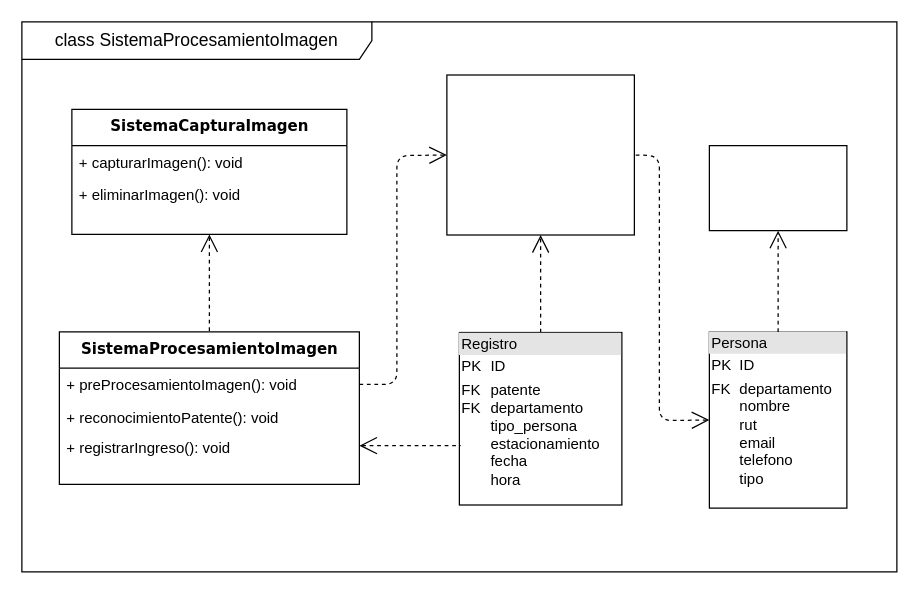
Image size: 919x594. Some labels were removed from this diagram. The centre of each missing label's shape, as x and y in pixels:
Departamentos PK ID numero: the point at 777,187
Vehiculo PK ID patente FK persona estacionamiento depto_asociado estado: the point at 540,154
